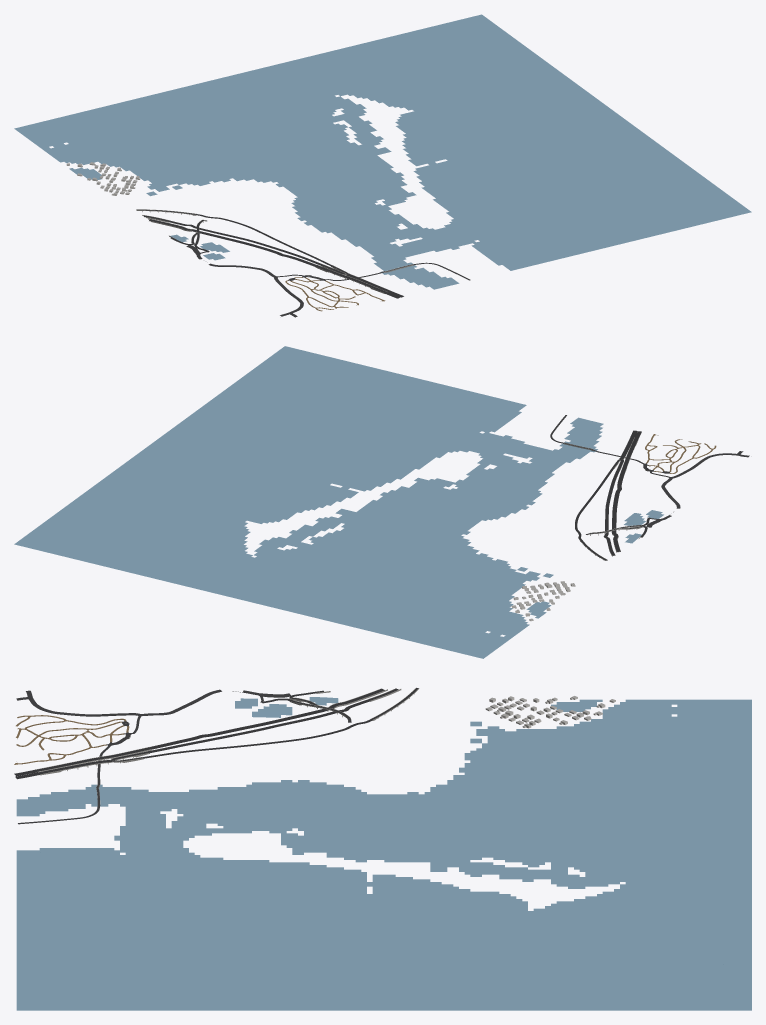
File: chunk_8_2.glb
3 renders of one model, top to bottom at view 1: azimuth 30°, elevation 25°; view 2: azimuth 150°, elevation 25°; view 3: azimuth 270°, elevation 25°, orthographic. The views are drawn at different scales.
Parts seen in each view (by area): view 1: Water_8_2, Roads_8_2, RoadSides_8_2, Filler_8_2; view 2: Water_8_2, Roads_8_2, Filler_8_2; view 3: Water_8_2, Roads_8_2, Filler_8_2, RoadSides_8_2.
Part boxes in pixels (left/top/right/bottom): Water_8_2: left=14, top=14, right=751, bottom=289; Roads_8_2: left=136, top=209, right=470, bottom=317; RoadSides_8_2: left=136, top=209, right=413, bottom=293; Filler_8_2: left=66, top=162, right=140, bottom=195; Water_8_2: left=14, top=346, right=663, bottom=658; Roads_8_2: left=550, top=415, right=749, bottom=560; Filler_8_2: left=511, top=581, right=575, bottom=621; Water_8_2: left=16, top=697, right=751, bottom=1010; Roads_8_2: left=14, top=688, right=418, bottom=824; Filler_8_2: left=485, top=696, right=615, bottom=728; RoadSides_8_2: left=35, top=688, right=419, bottom=804.
Size of the model in its own units: 2056 by 36.19 by 2055.
